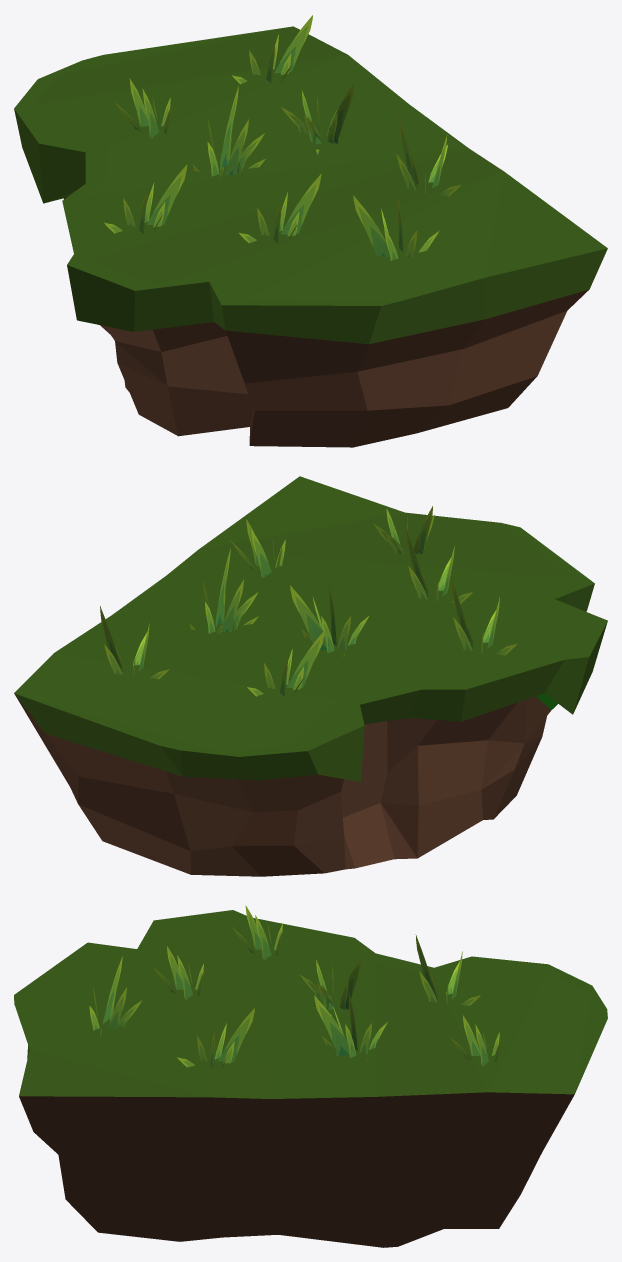
The model's file is ground.fbx.
3 views of the same model, one above another, from view 1: azimuth 30°, elevation 25°; view 2: azimuth 150°, elevation 25°; view 3: azimuth 270°, elevation 25° (orthographic). The views are drawn at different scales.
Parts seen in each view (by area): view 1: ground.001, Plane.010, Plane.008, Plane.003, Plane.007, Plane.006, Plane.004, Plane.002, Plane.005; view 2: ground.001, Plane.010, Plane.006, Plane.005, Plane.003, Plane.007, Plane.004, Plane.008, Plane.002; view 3: ground.001, Plane.006, Plane.002, Plane.008, Plane.010, Plane.005, Plane.007, Plane.003, Plane.004.
Boxes of the visible parts, left/top/right/bottom form: ground.001: left=14, top=26, right=607, bottom=447; Plane.010: left=192, top=85, right=265, bottom=183; Plane.008: left=353, top=194, right=439, bottom=260; Plane.003: left=104, top=164, right=187, bottom=234; Plane.007: left=239, top=174, right=321, bottom=243; Plane.006: left=281, top=84, right=353, bottom=154; Plane.004: left=232, top=15, right=312, bottom=84; Plane.002: left=396, top=113, right=461, bottom=196; Plane.005: left=114, top=78, right=172, bottom=138; ground.001: left=14, top=476, right=607, bottom=876; Plane.010: left=290, top=583, right=369, bottom=657; Plane.006: left=189, top=548, right=258, bottom=639; Plane.005: left=247, top=630, right=324, bottom=696; Plane.003: left=451, top=578, right=517, bottom=655; Plane.007: left=406, top=528, right=472, bottom=603; Plane.004: left=100, top=606, right=169, bottom=679; Plane.008: left=373, top=506, right=434, bottom=554; Plane.002: left=230, top=519, right=285, bottom=578; ground.001: left=14, top=910, right=607, bottom=1247; Plane.006: left=314, top=993, right=387, bottom=1062; Plane.002: left=177, top=1008, right=254, bottom=1069; Plane.008: left=89, top=956, right=142, bottom=1037; Plane.010: left=299, top=956, right=361, bottom=1015; Plane.005: left=415, top=934, right=480, bottom=1005; Plane.007: left=153, top=946, right=204, bottom=1000; Plane.003: left=231, top=905, right=283, bottom=960; Plane.004: left=449, top=1015, right=502, bottom=1066.
Size of the model in its own units: 115 by 68.88 by 154.
9 materials, 9 textured.
